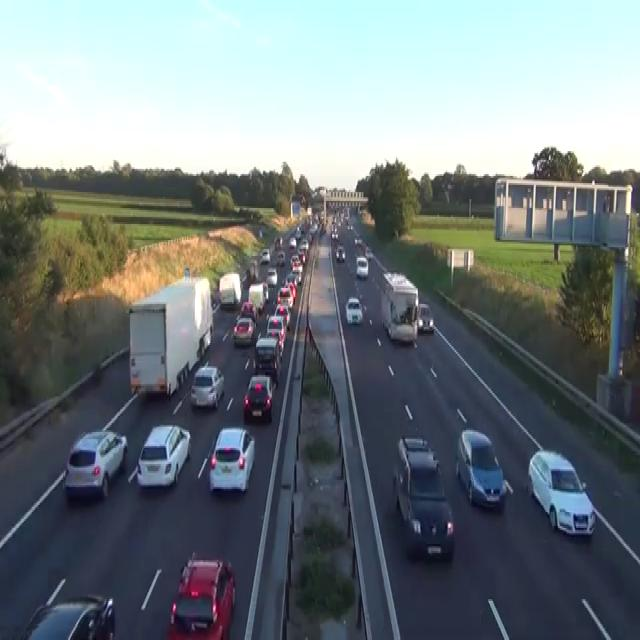Car: (392, 436, 455, 560), (527, 448, 596, 537), (166, 551, 236, 638), (63, 428, 128, 499), (19, 592, 115, 638), (455, 428, 506, 508), (136, 423, 191, 487), (208, 427, 255, 492), (398, 434, 438, 474), (190, 363, 224, 409), (243, 373, 273, 423), (253, 336, 281, 380), (232, 315, 255, 345), (266, 314, 286, 348), (265, 329, 284, 359), (417, 302, 434, 332), (345, 297, 363, 323), (240, 298, 257, 324), (276, 284, 293, 308), (274, 304, 290, 329), (355, 256, 368, 277), (289, 252, 302, 272), (266, 266, 277, 284), (297, 245, 307, 263), (285, 272, 297, 286), (335, 246, 345, 262), (260, 247, 270, 263), (262, 283, 269, 302), (276, 251, 285, 265), (274, 235, 283, 249), (299, 238, 308, 249), (365, 246, 372, 260), (309, 224, 317, 236), (331, 228, 338, 240), (354, 235, 362, 245), (296, 272, 302, 284), (289, 237, 296, 247), (320, 224, 326, 235), (299, 222, 305, 233), (295, 226, 300, 236), (300, 196, 306, 204), (329, 202, 335, 210), (347, 222, 352, 230), (258, 228, 262, 238)
Truck: (128, 268, 213, 398), (380, 270, 418, 347), (218, 272, 241, 308), (290, 201, 300, 219)
